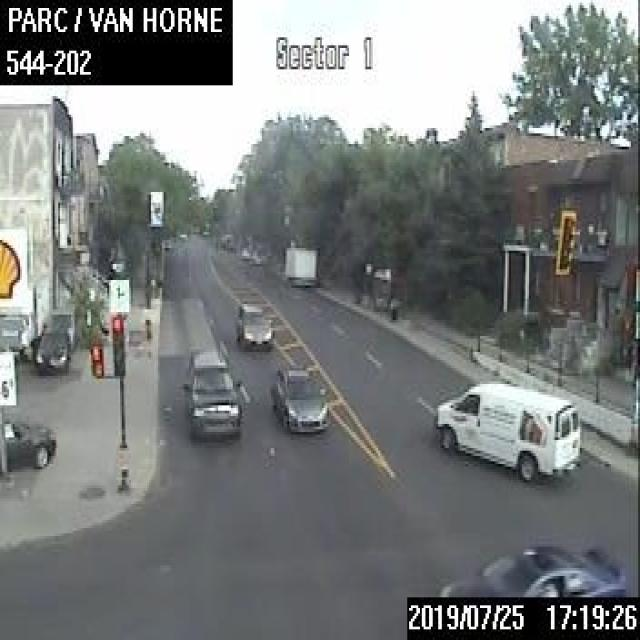vehicle: (433, 378, 580, 482), (436, 536, 629, 595), (182, 347, 242, 439), (270, 364, 327, 433), (2, 416, 55, 468), (34, 324, 70, 372), (43, 303, 81, 347), (235, 299, 272, 344), (283, 244, 316, 285)
